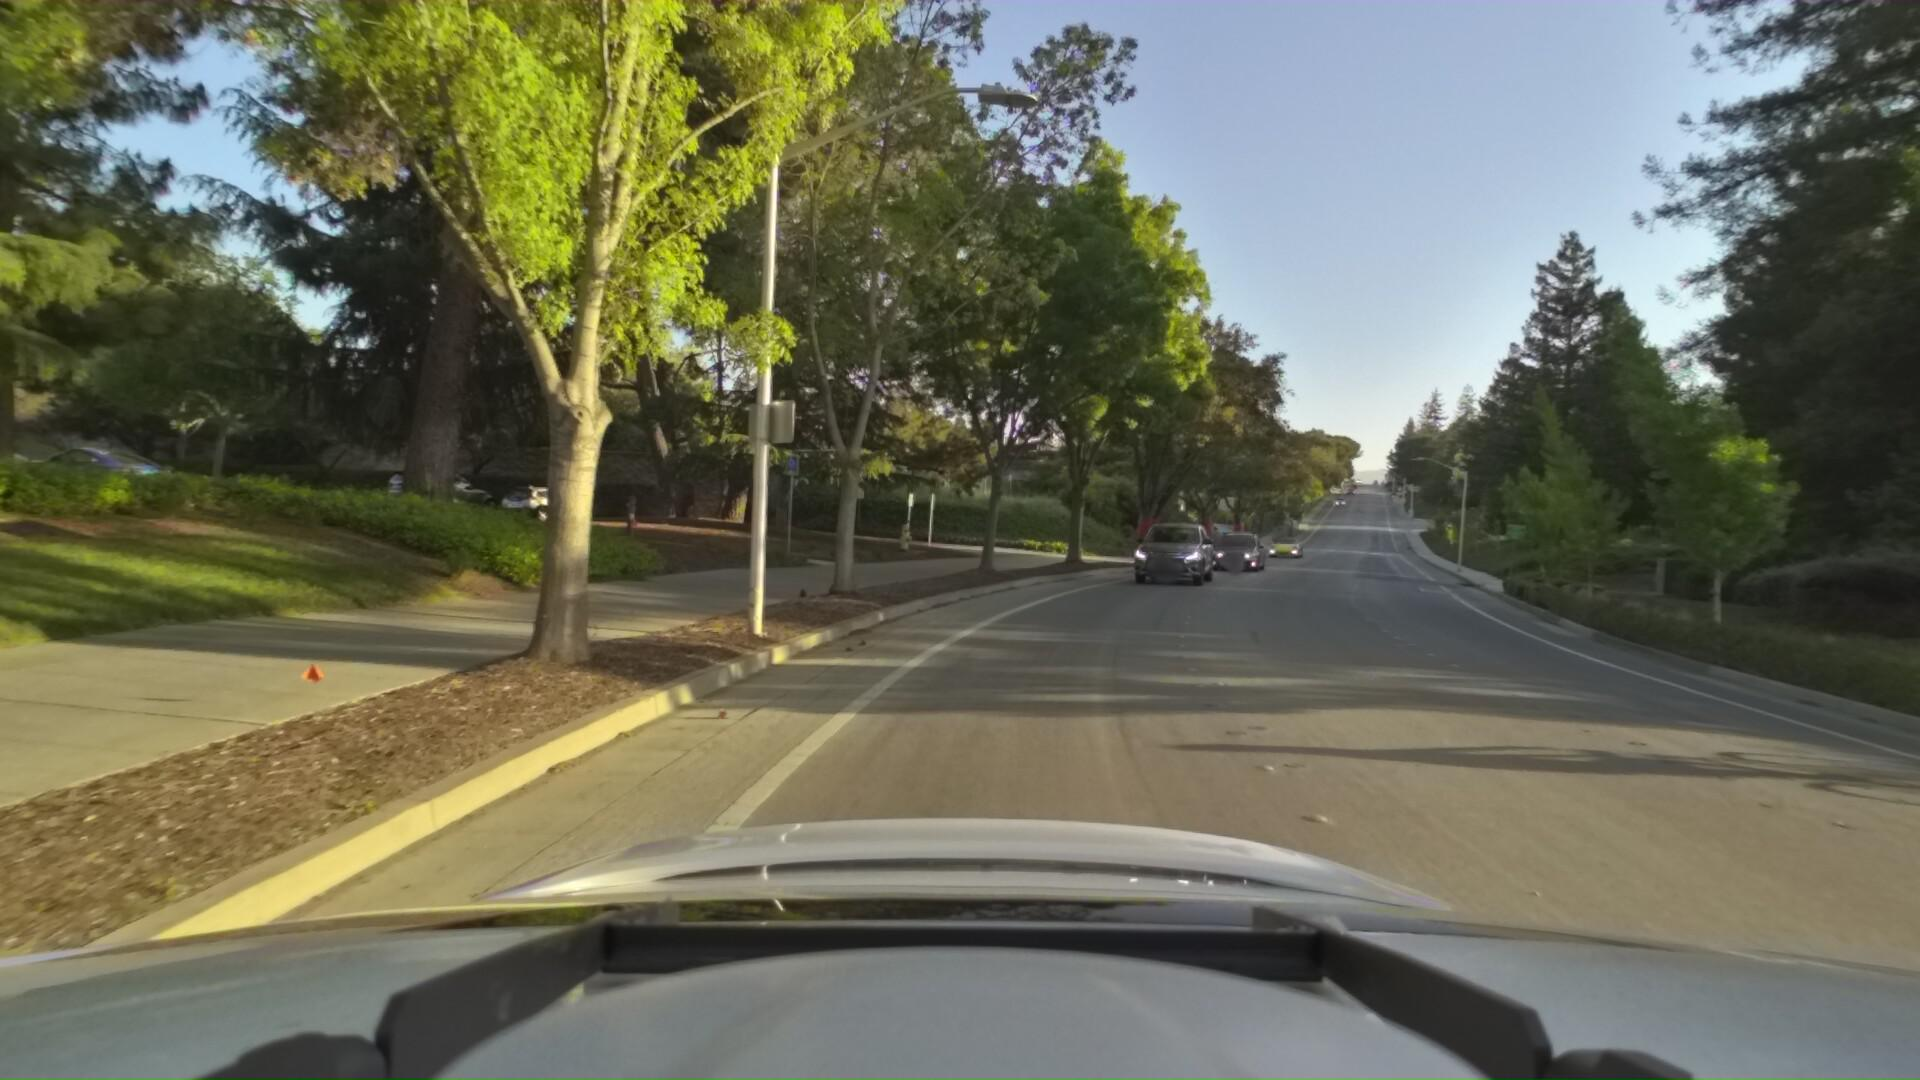bicycle: (1862, 545, 1920, 818)
car: (1125, 510, 1224, 585), (1207, 520, 1276, 571), (1262, 530, 1309, 556)
